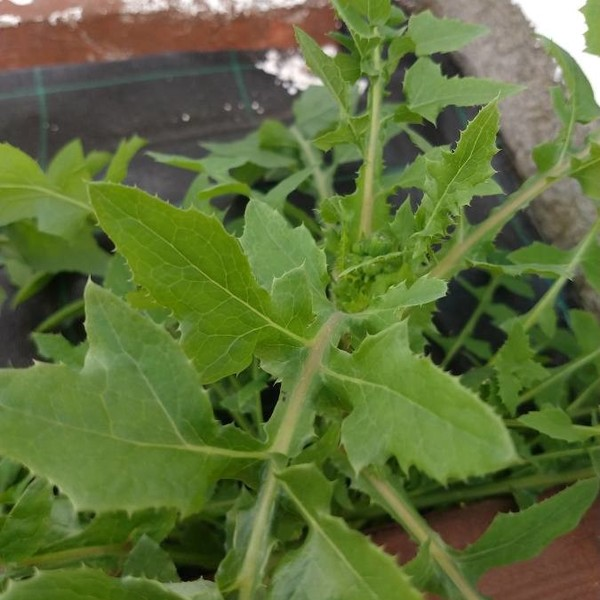obstacle: (44, 71, 547, 568)
